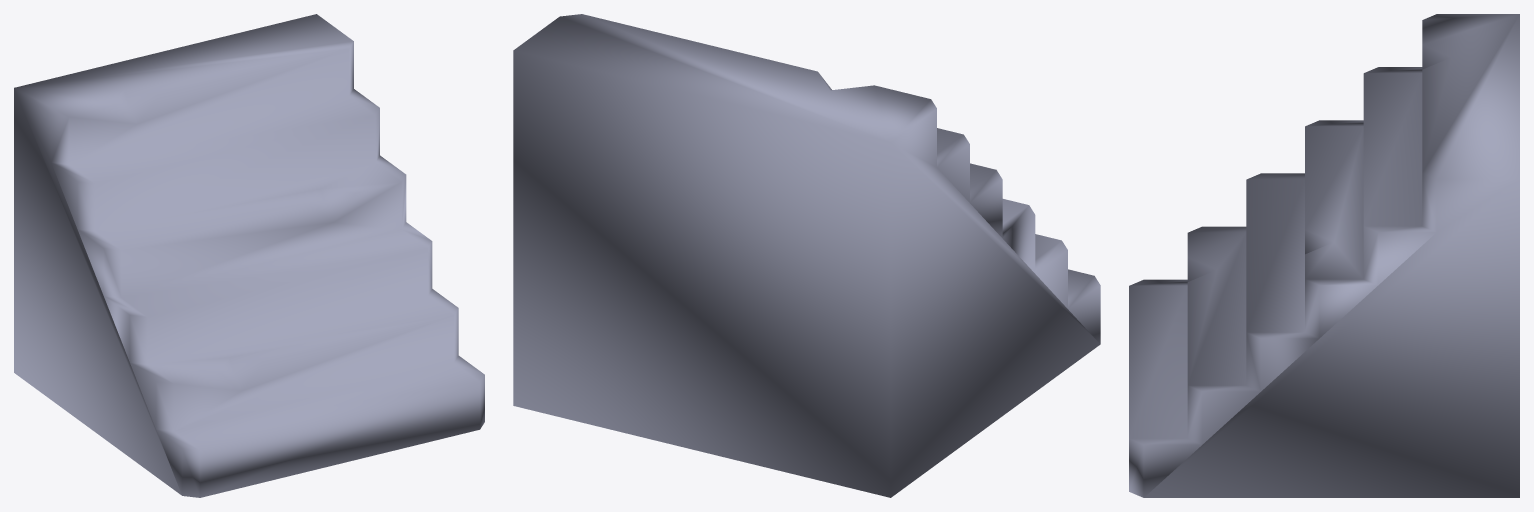
Rendered from kenney_mini-dungeon__stairs.fbx.
3 views of the same model, side by side, from view 1: azimuth 30°, elevation 25°; view 2: azimuth 150°, elevation 25°; view 3: azimuth 270°, elevation 25° (orthographic). The views are drawn at different scales.
Parts seen in each view (by area): view 1: kenney_mini-dungeon__stairs__cave_stone; view 2: kenney_mini-dungeon__stairs__cave_stone; view 3: kenney_mini-dungeon__stairs__cave_stone.
Boxes of the visible parts, x1,y1,x2,y2 form: kenney_mini-dungeon__stairs__cave_stone: (14, 14, 484, 497); kenney_mini-dungeon__stairs__cave_stone: (513, 14, 1100, 497); kenney_mini-dungeon__stairs__cave_stone: (1129, 14, 1519, 497).
Bounding box in the file's own units: 3.57 × 3.21 × 3.57.
